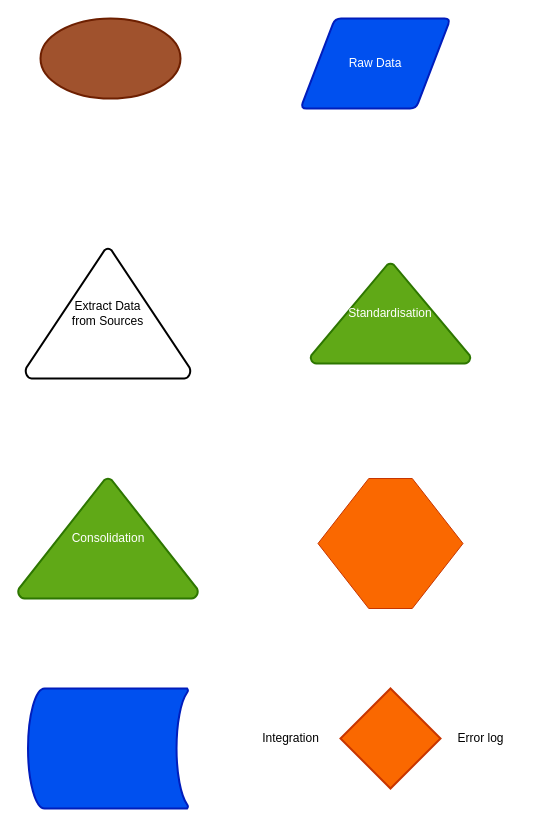
Image size: 533x826. Some labels were removed from this diagram. The shapes that lost their labels are listed below. From the top down, each one's centre as x and y in pixels, then its label:
pixel 110 58: Start
pixel 107 748: Unified DB
